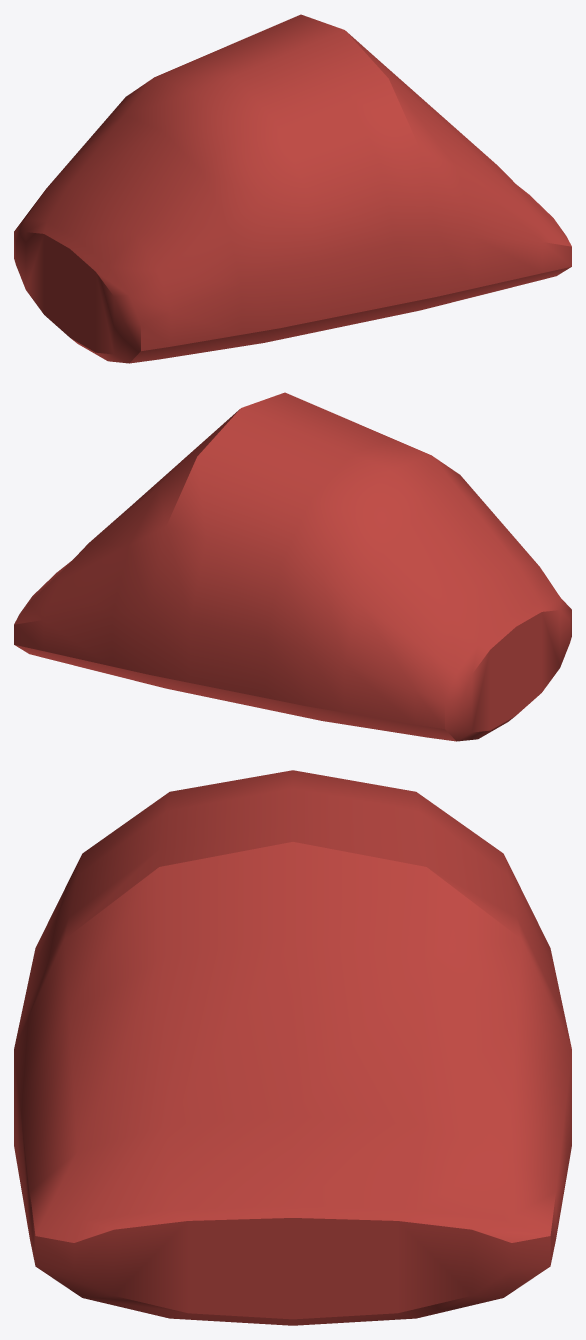
File: solo_lod1.glb
3 views of the same model, one above another, from view 1: azimuth 30°, elevation 25°; view 2: azimuth 150°, elevation 25°; view 3: azimuth 270°, elevation 25° (orthographic). The views are drawn at different scales.
Parts seen in each view (by area): view 1: solo_lod1; view 2: solo_lod1; view 3: solo_lod1.
Part boxes in pixels (bbox=[...]): solo_lod1: bbox=[14, 14, 571, 363]; solo_lod1: bbox=[14, 392, 571, 741]; solo_lod1: bbox=[14, 770, 571, 1325].
Bounding box in the file's own units: 0.34 × 0.19 × 0.2541.
